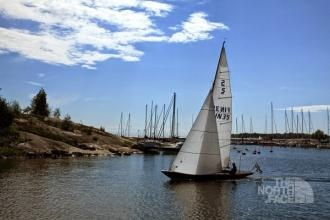fanchuan: (162, 40, 258, 182)
